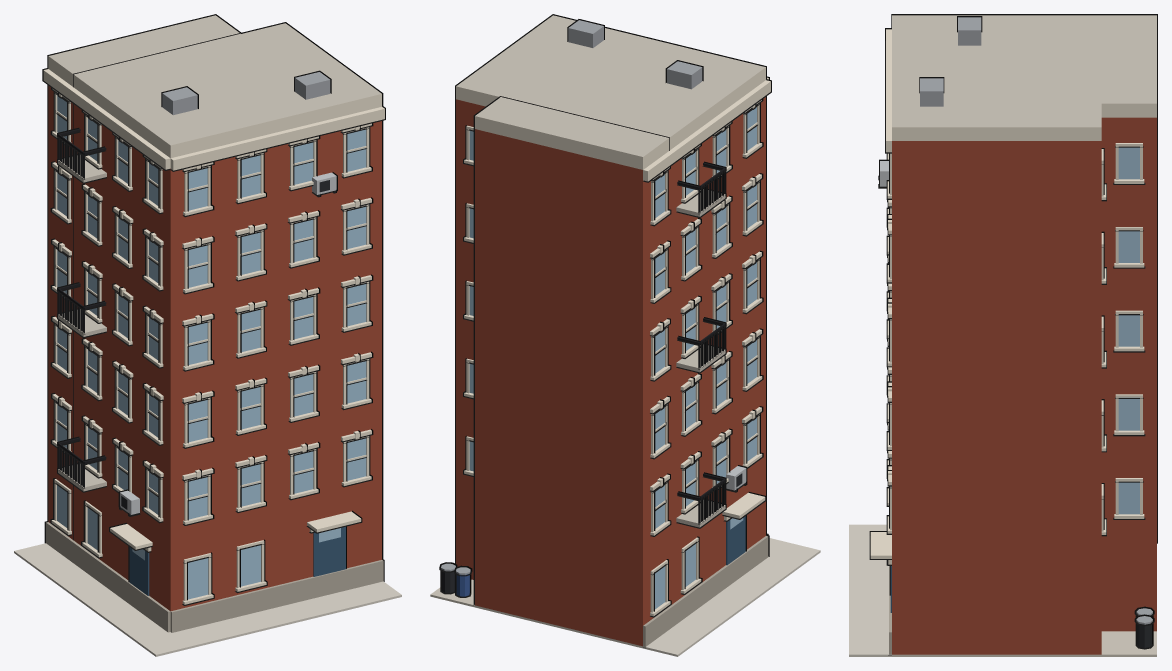
Rendered from Blok_kose_6k_2.fbx.
3 views of the same model, side by side, from view 1: azimuth 30°, elevation 25°; view 2: azimuth 150°, elevation 25°; view 3: azimuth 270°, elevation 25° (orthographic). The views are drawn at different scales.
Parts seen in each view (by area): view 1: Blok_kose_6k_2; view 2: Blok_kose_6k_2; view 3: Blok_kose_6k_2.
Part boxes in pixels (x1,y1,x2,y2): Blok_kose_6k_2: (14, 14, 401, 656); Blok_kose_6k_2: (430, 14, 820, 656); Blok_kose_6k_2: (849, 14, 1157, 656).
Size of the model in its own units: 10.03 by 19.56 by 10.03.
